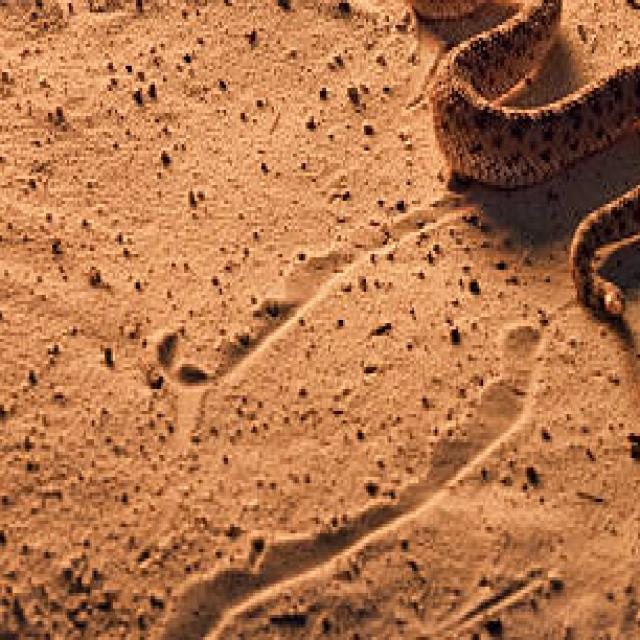Snake: (399, 0, 640, 323)
